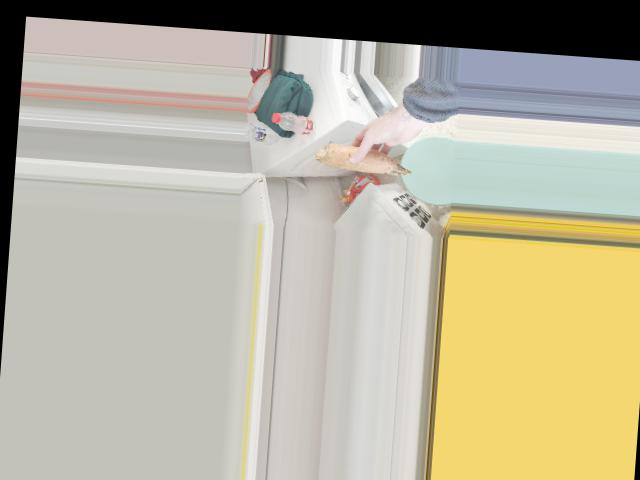sweet_potato: (316, 141, 408, 174)
